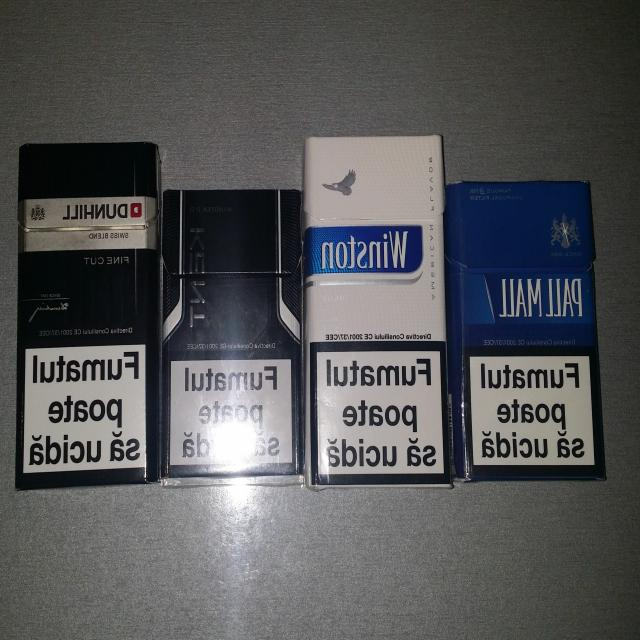dunhill: (9, 144, 163, 498)
pallmall: (449, 177, 604, 482)
winston: (304, 139, 452, 481)
